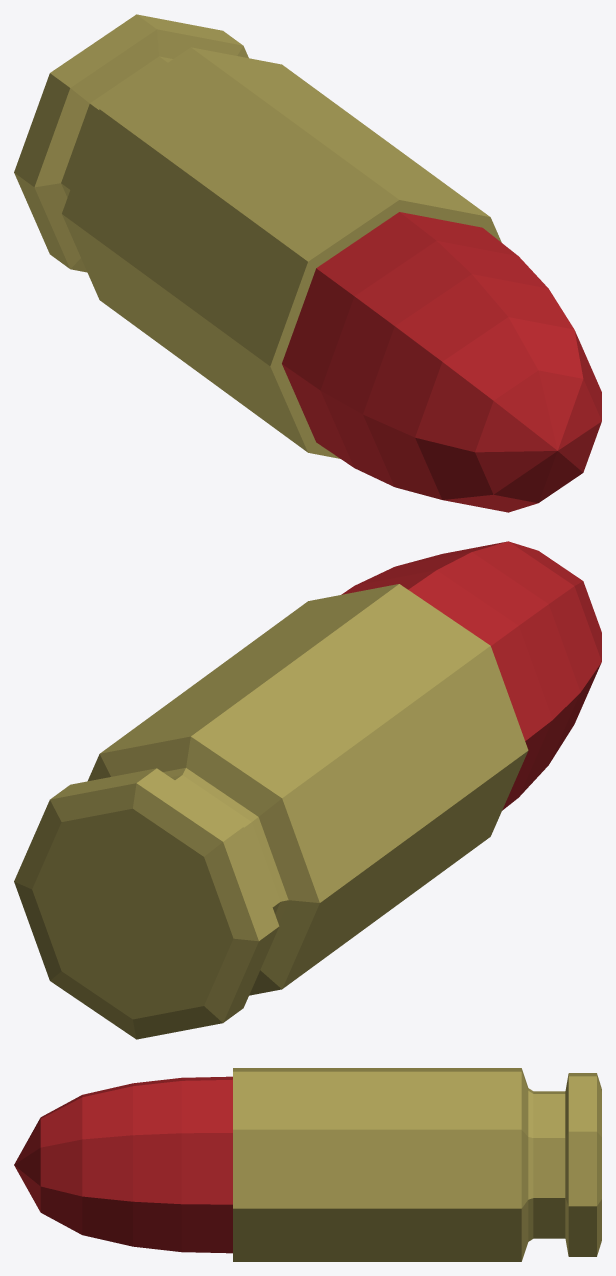
Rendered from bullet.fbx.
3 views of the same model, one above another, from view 1: azimuth 30°, elevation 25°; view 2: azimuth 150°, elevation 25°; view 3: azimuth 270°, elevation 25° (orthographic). The views are drawn at different scales.
Parts seen in each view (by area): view 1: bullet; view 2: bullet; view 3: bullet.
Part boxes in pixels (<box>): bullet: <box>14,14,601,512</box>; bullet: <box>14,541,601,1039</box>; bullet: <box>14,1068,601,1261</box>.
Bounding box in the file's own units: 0.1113 × 0.1113 × 0.3172.
